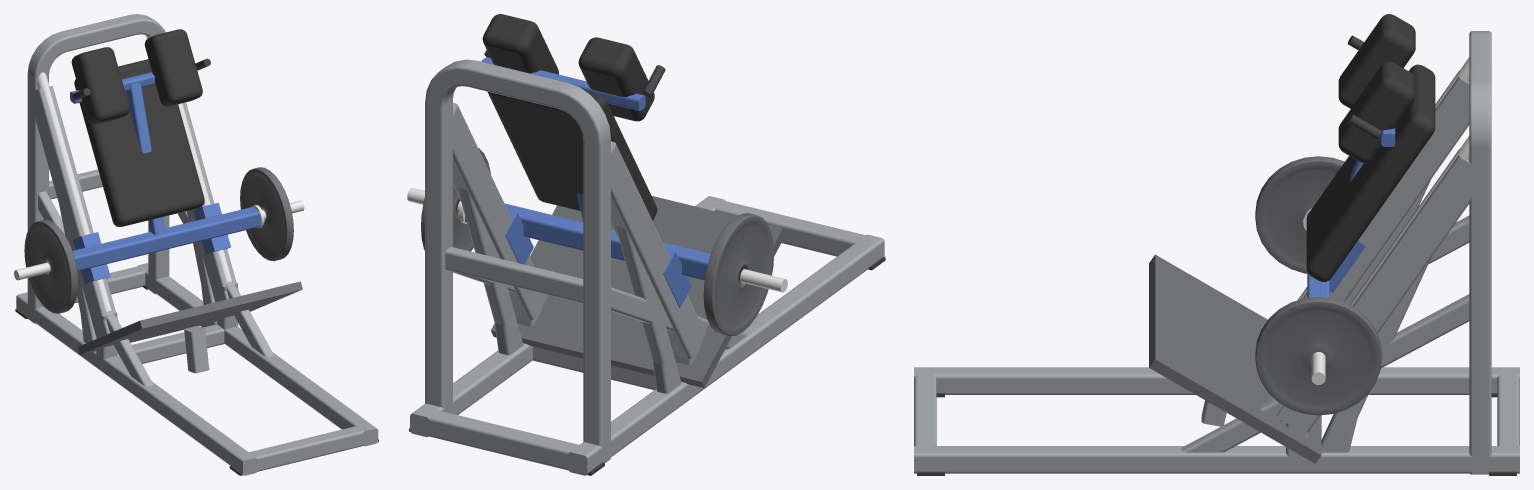
The picture shows the model from 3 angles, left to right: view 1: azimuth 30°, elevation 25°; view 2: azimuth 150°, elevation 25°; view 3: azimuth 270°, elevation 25°; orthographic projection. The views are drawn at different scales.
Visible parts, largest first — view 1: base, backrest_pad, carriage, shoulder_pad (×2), rear_arch_tube, rail_beam (×2), frame, carriage_beam, foot_plate, rail (×2), carriage_slider (×2), rear_tie (+1 smaller); view 2: rear_arch_tube, base, foot_plate, rail_beam (×2), carriage, frame, backrest_pad, shoulder_pad (×2), rear_tie, carriage_beam, carriage_slider (×2), plate_horn; view 3: base, carriage, foot_plate, rail_beam (×2), backrest_pad, rear_arch_tube, frame, shoulder_pad (×2), rail.
Part boxes in pixels (box(x1,y1,x2,y2)): base: box(15, 263, 378, 475); backrest_pad: box(74, 59, 204, 226); carriage: box(24, 72, 293, 313); shoulder_pad (×2): box(71, 29, 202, 124); rear_arch_tube: box(27, 14, 169, 323); rail_beam (×2): box(28, 86, 238, 337); frame: box(38, 191, 273, 386); carriage_beam: box(72, 207, 260, 271); foot_plate: box(77, 281, 302, 354); rail (×2): box(37, 72, 231, 311); carriage_slider (×2): box(73, 202, 230, 284); rear_tie: box(49, 169, 102, 199); rear_arch_tube: box(425, 59, 610, 462); base: box(409, 196, 885, 475); foot_plate: box(491, 196, 785, 388); rail_beam (×2): box(445, 103, 705, 358); carriage: box(421, 57, 774, 336); frame: box(453, 188, 747, 393); backrest_pad: box(487, 91, 657, 220); shoulder_pad (×2): box(482, 14, 654, 121); rear_tie: box(445, 247, 583, 303); carriage_beam: box(465, 203, 710, 280); carriage_slider (×2): box(505, 210, 691, 307); plate_horn: box(740, 269, 787, 292); base: box(914, 367, 1519, 475); carriage: box(1255, 128, 1395, 415); foot_plate: box(1149, 254, 1321, 463); rail_beam (×2): box(1276, 70, 1487, 433); backrest_pad: box(1306, 64, 1435, 281); rear_arch_tube: box(1469, 31, 1491, 474); frame: box(1181, 180, 1469, 457); shoulder_pad (×2): box(1338, 14, 1415, 163); rail: box(1350, 136, 1469, 305).
Bounding box in the file's own units: 1.56 × 1.51 × 2.15.
